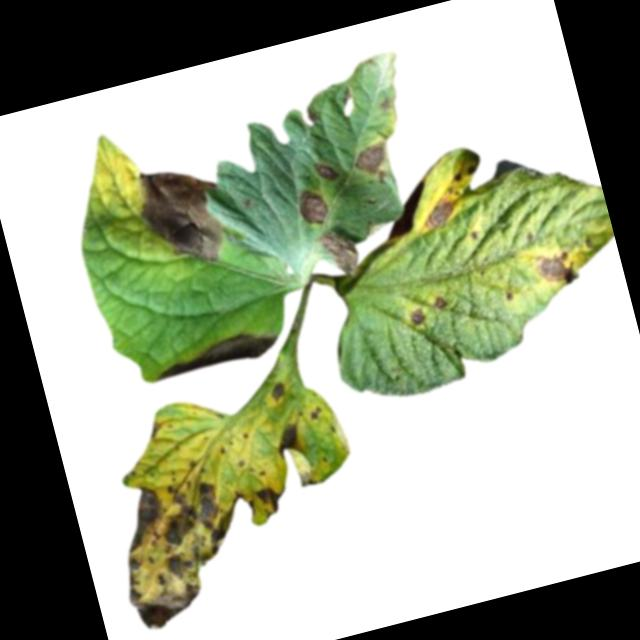Early_blight: (100, 458, 267, 637), (130, 155, 236, 275), (150, 324, 284, 388), (316, 224, 363, 279), (531, 243, 579, 289), (352, 140, 395, 187), (418, 195, 460, 234), (294, 185, 331, 228), (271, 419, 308, 459), (254, 483, 286, 517), (313, 156, 338, 184), (266, 380, 289, 402), (407, 305, 428, 323), (432, 291, 451, 309), (308, 404, 326, 422)
